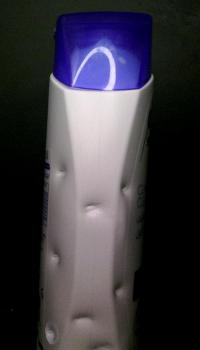dent_unacceptable: (95, 270, 133, 303), (45, 240, 75, 272), (54, 154, 86, 182), (73, 197, 112, 219), (74, 200, 112, 219), (102, 176, 138, 196), (41, 318, 65, 347), (68, 306, 100, 325)
